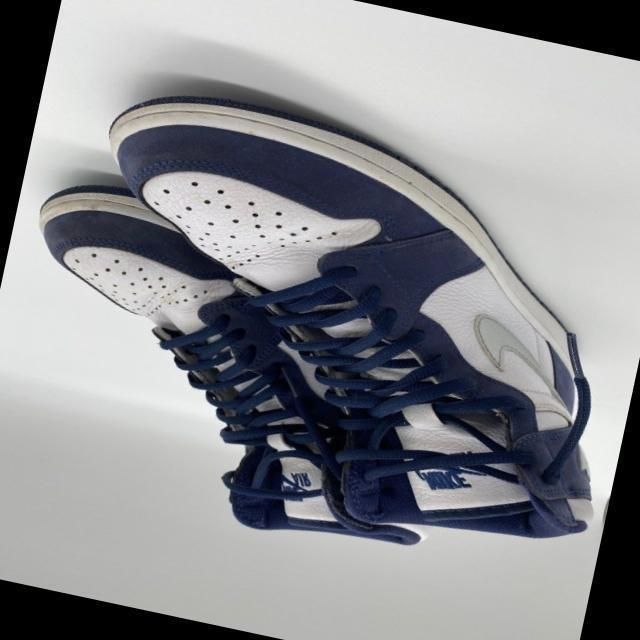nike original jordan 1: (30, 70, 640, 565), (0, 167, 492, 565)
